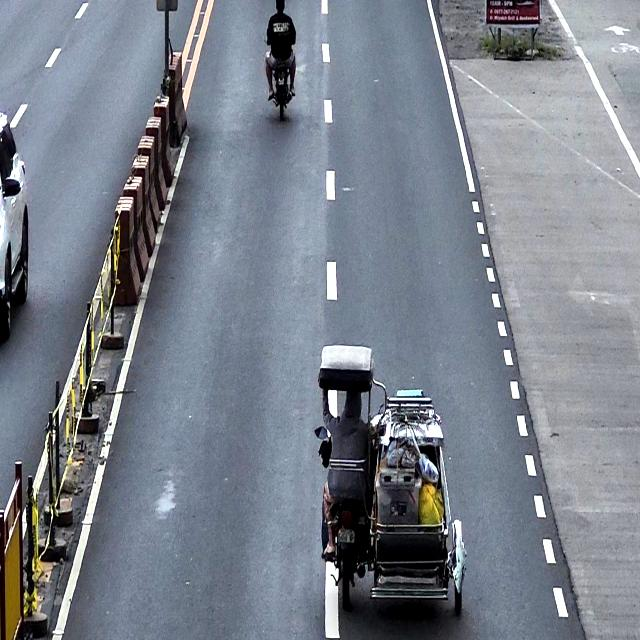Car: (0, 111, 29, 339)
License-Plate: (337, 527, 355, 544)
Motorcycle: (263, 36, 296, 121)
Tricycle: (315, 343, 467, 616)
